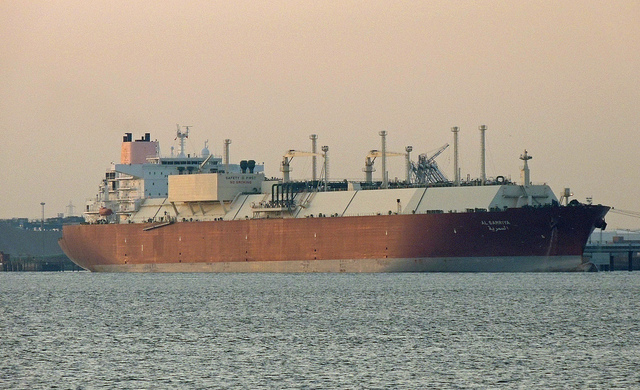LNG_ship: (56, 119, 615, 272)
